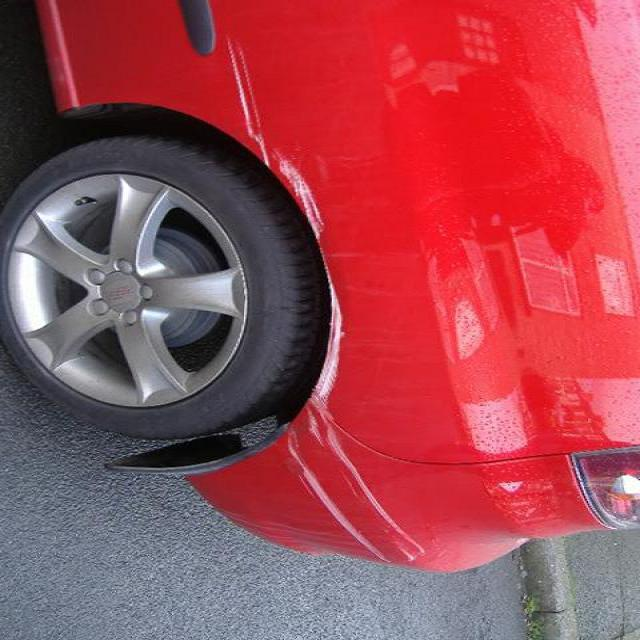scratch: (262, 137, 353, 420)
